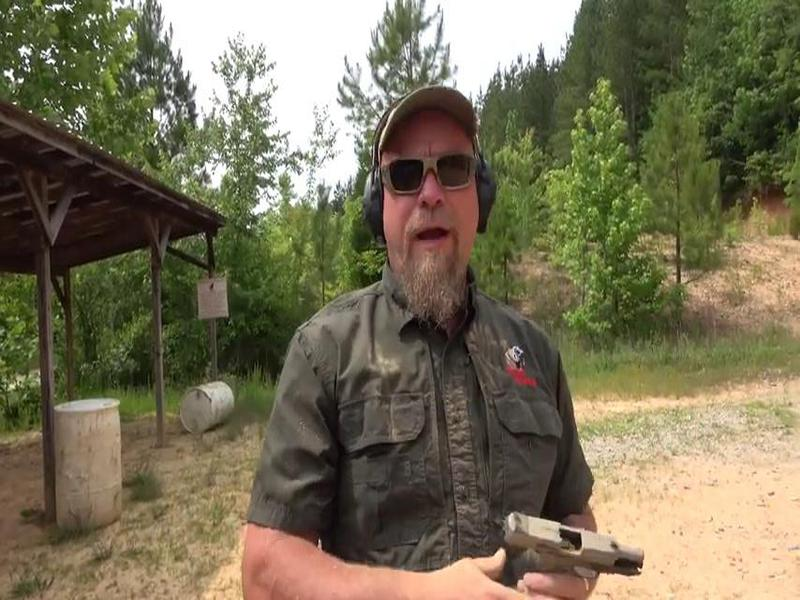Pistola: (495, 490, 643, 600)
